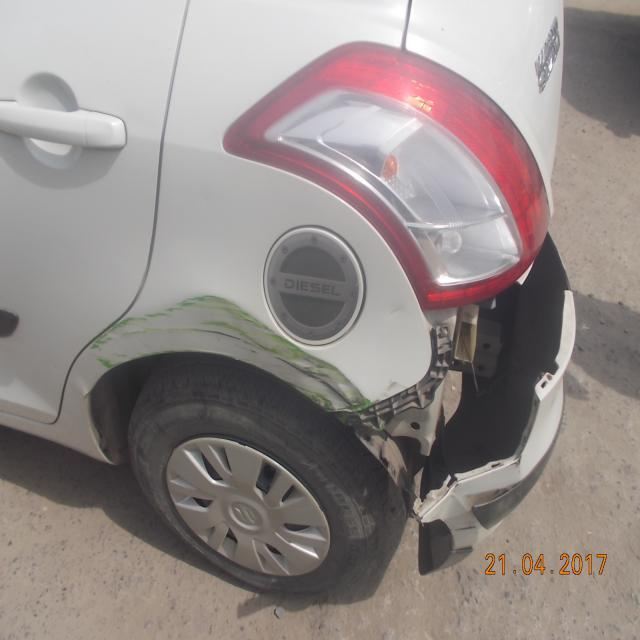car damage: (123, 180, 356, 606), (365, 254, 623, 564)
